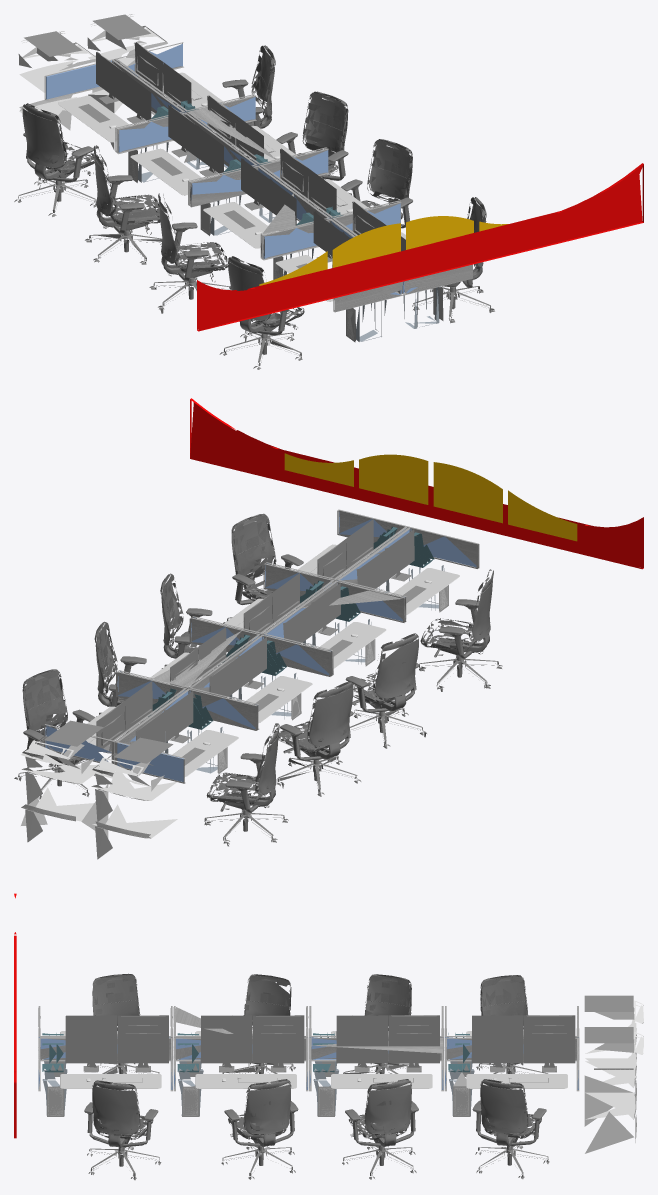
The model's file is office_furniture.glb.
3 renders of one model, top to bottom at view 1: azimuth 30°, elevation 25°; view 2: azimuth 150°, elevation 25°; view 3: azimuth 270°, elevation 25°, orthographic. The views are drawn at different scales.
Parts seen in each view (by area): view 1: office_Color_007, office__020_Red, office__135_DarkGray, office_Aluminum, office_Mate_jjkjnet_1, office_Translucent_Glass_Blue, office__131_Silver, office__039_DarkOrange, office__130_Gainsboro, office__111_SlateGray, office__133_Gray, office_Plastic_Red; view 2: office_Color_007, office__135_DarkGray, office_Aluminum, office__020_Red, office__039_DarkOrange, office_Mate_jjkjnet_1, office__130_Gainsboro, office__131_Silver, office_Translucent_Glass_Blue, office_Plastic_Red, office__111_SlateGray, office__133_Gray; view 3: office__135_DarkGray, office_Color_007, office__131_Silver, office_Mate_jjkjnet_1, office__130_Gainsboro, office_Aluminum, office__133_Gray, office_Plastic_Red, office_Translucent_Glass_Blue, office__111_SlateGray, office__020_Red.
Part boxes in pixels (<box>): office_Color_007: <box>14,46,494,369</box>; office__020_Red: <box>197,163,643,331</box>; office__135_DarkGray: <box>24,14,405,268</box>; office_Aluminum: <box>44,42,472,312</box>; office_Mate_jjkjnet_1: <box>23,45,486,327</box>; office_Translucent_Glass_Blue: <box>46,44,417,294</box>; office__131_Silver: <box>58,72,442,340</box>; office__039_DarkOrange: <box>259,216,508,285</box>; office__130_Gainsboro: <box>18,14,352,234</box>; office__111_SlateGray: <box>138,136,441,341</box>; office__133_Gray: <box>128,133,443,342</box>; office_Plastic_Red: <box>150,100,342,225</box>; office_Color_007: <box>14,514,502,846</box>; office__135_DarkGray: <box>22,519,426,773</box>; office_Aluminum: <box>44,509,479,783</box>; office__020_Red: <box>190,398,643,569</box>; office__039_DarkOrange: <box>284,453,577,541</box>; office_Mate_jjkjnet_1: <box>22,513,492,804</box>; office__130_Gainsboro: <box>21,580,431,859</box>; office__131_Silver: <box>86,544,459,776</box>; office_Translucent_Glass_Blue: <box>45,512,476,781</box>; office_Plastic_Red: <box>148,526,434,729</box>; office__111_SlateGray: <box>163,565,444,773</box>; office__133_Gray: <box>129,585,448,774</box>; office__135_DarkGray: <box>65,995,633,1082</box>; office_Color_007: <box>84,973,549,1180</box>; office__131_Silver: <box>48,1031,567,1115</box>; office_Mate_jjkjnet_1: <box>92,974,541,1139</box>; office__130_Gainsboro: <box>86,1000,643,1153</box>; office_Aluminum: <box>38,1006,579,1091</box>; office__133_Gray: <box>47,1059,470,1116</box>; office_Plastic_Red: <box>42,1033,469,1072</box>; office_Translucent_Glass_Blue: <box>38,1037,578,1089</box>; office__111_SlateGray: <box>42,1059,474,1115</box>; office__020_Red: <box>14,893,16,1138</box>.
Size of the model in its own units: 5.08 by 1.7 by 6.67.
Materials: 12 (3 with a texture image).
